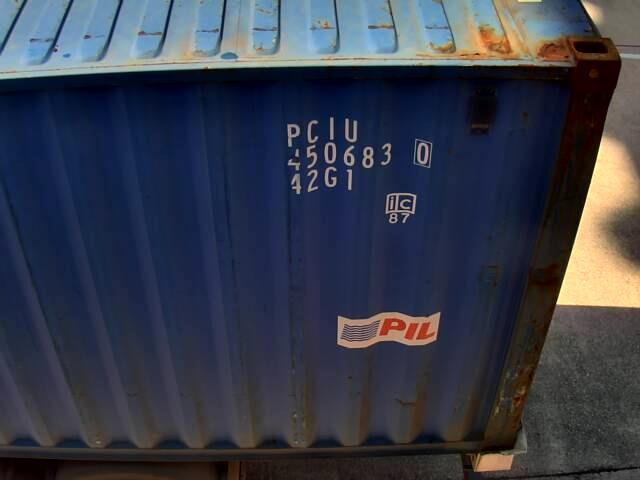container_no_door: (158, 33, 627, 463)
